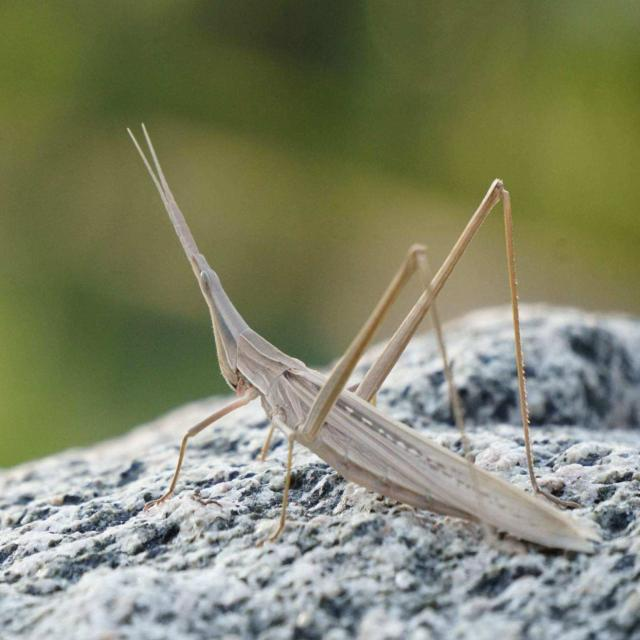ZhaMeng: (112, 109, 605, 570)
